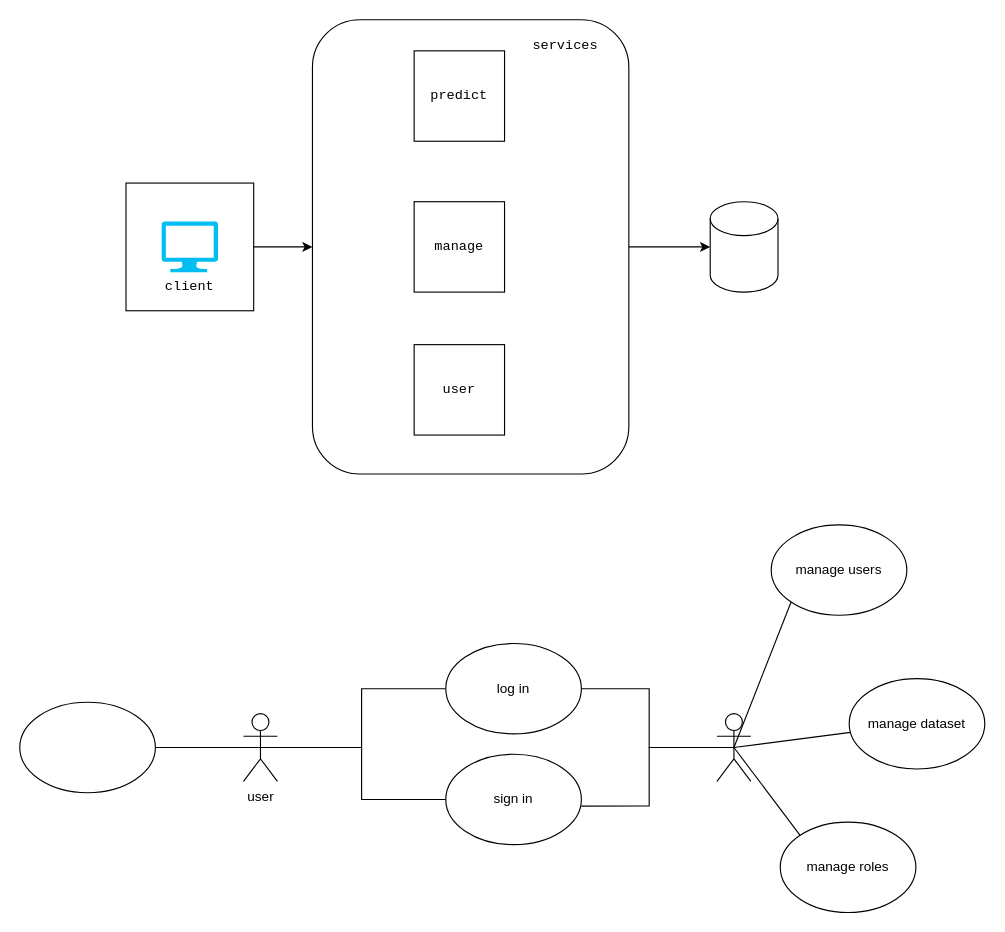
Some shapes in this 1005 by 932 pixel diagram are drawn without their labels. Here are the shapes that lost their labels. From the top down, the centre of each, then its label:
At pixel 743 246: "firebase".
At pixel 87 747: "query".
At pixel 733 746: "admin".
